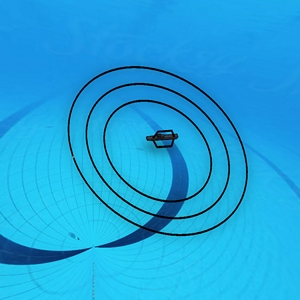circle: (67, 67, 249, 234)
submarine: (145, 127, 179, 152)
